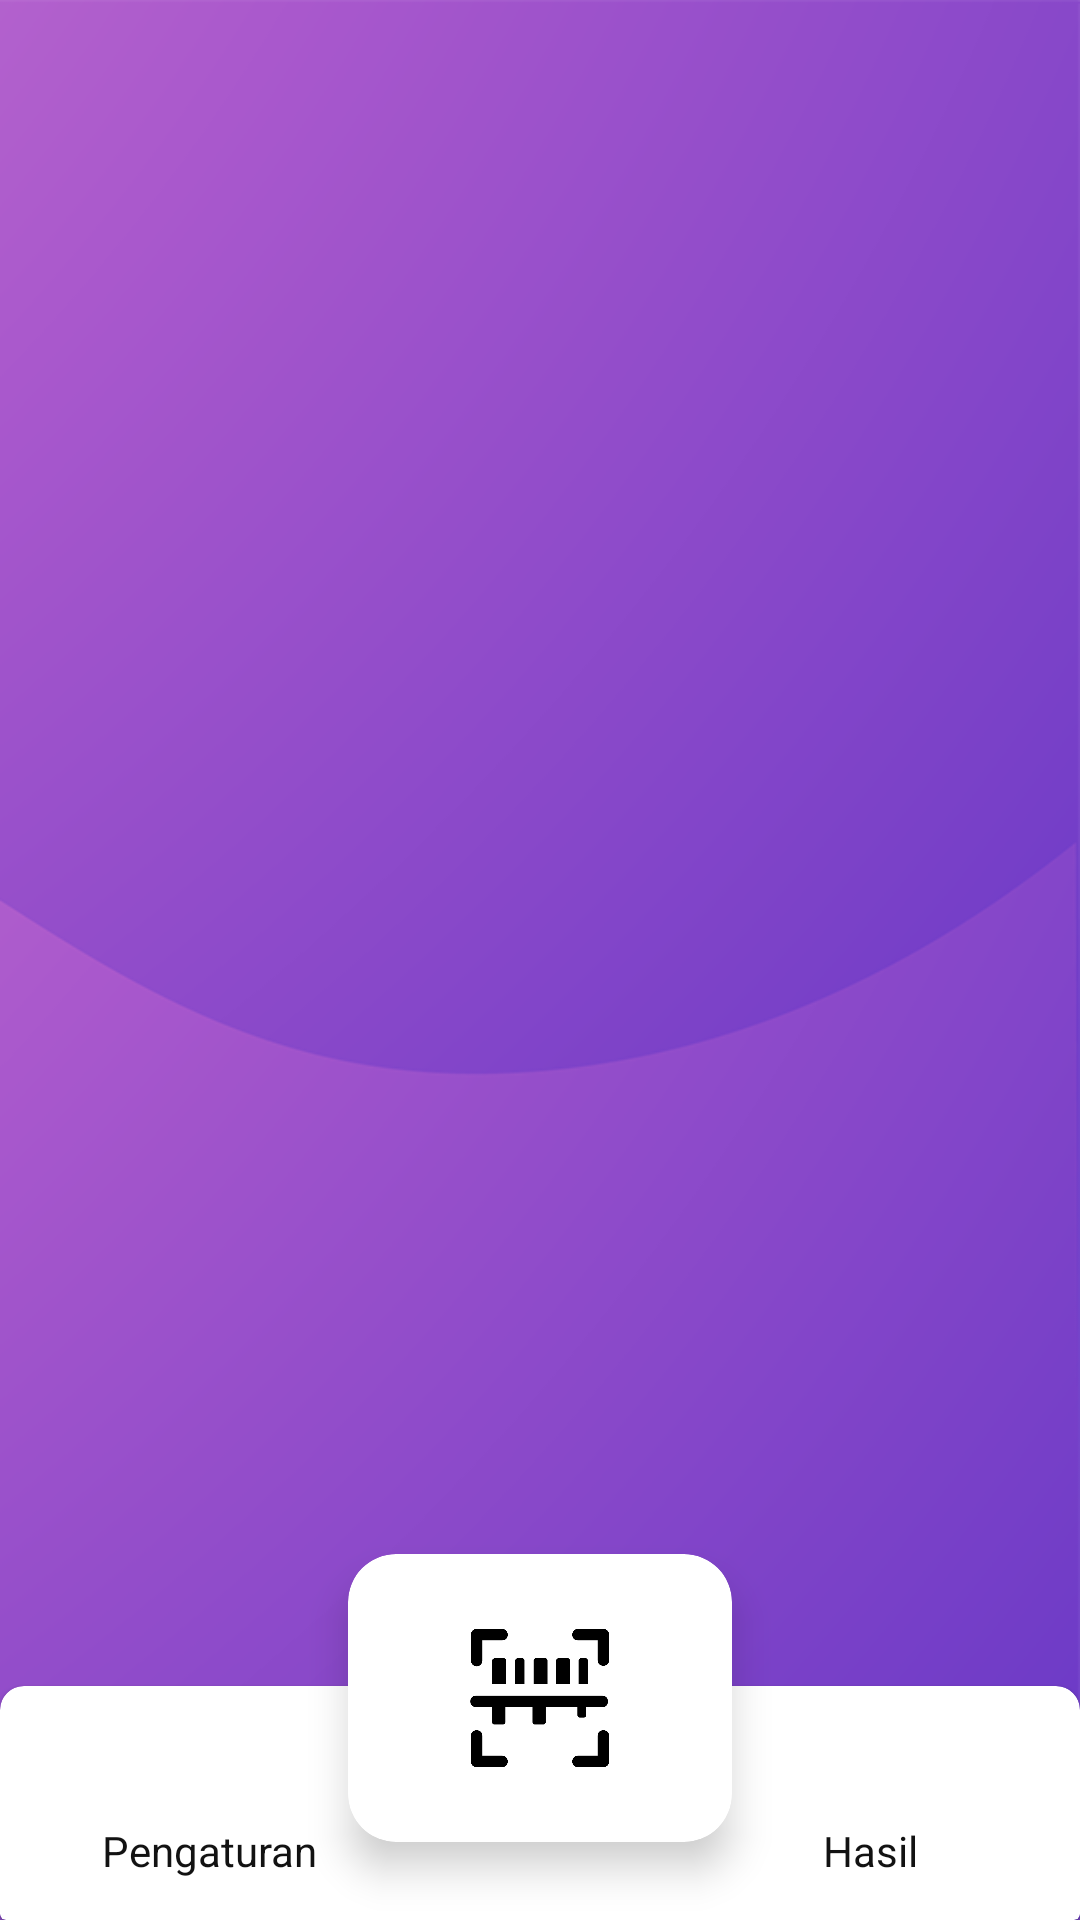

Screen size 1080w x 1920h. Icon name, then its center in pixels as (x,y):
scan: (539,1698)
